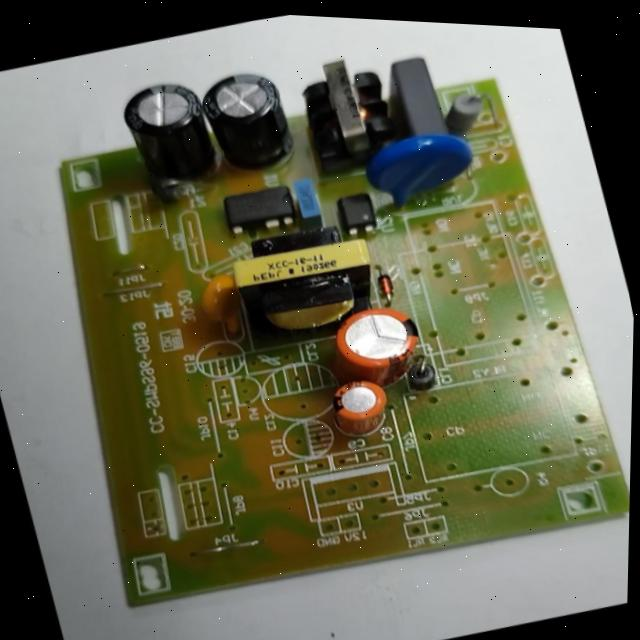Cap1: (325, 293, 436, 398)
Cap2: (328, 369, 396, 429)
Cap3: (194, 58, 305, 184)
Cap4: (115, 70, 224, 194)
MOSFET: (220, 176, 300, 240)
Mov: (355, 117, 487, 224)
Resistor: (439, 77, 493, 138)
Transformer: (222, 210, 390, 354), (289, 43, 405, 177)
